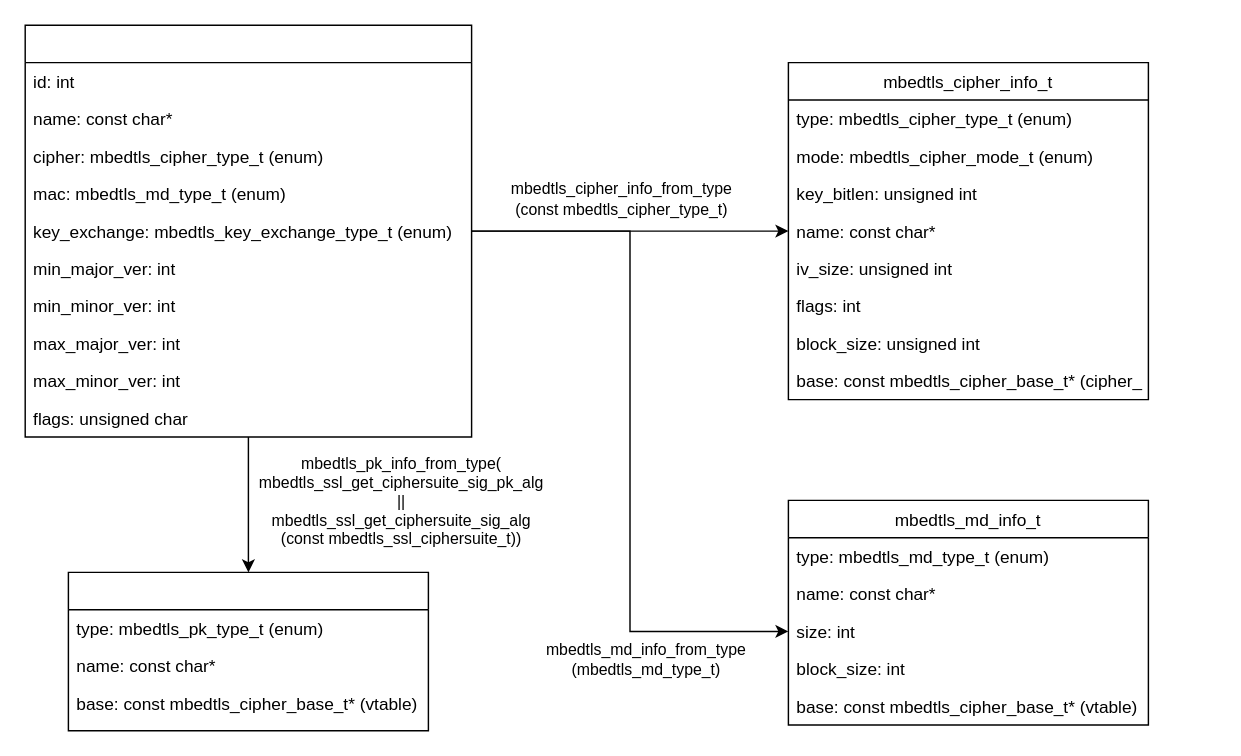
Some shapes in this 1241 by 756 pixel diagram are drawn without their labels. Each missing label, with the box of its shape:
mbedtls_pk_info_t: (67, 571, 428, 731)
mbedtls_ssl_ciphersuite_t: (24, 24, 472, 437)
